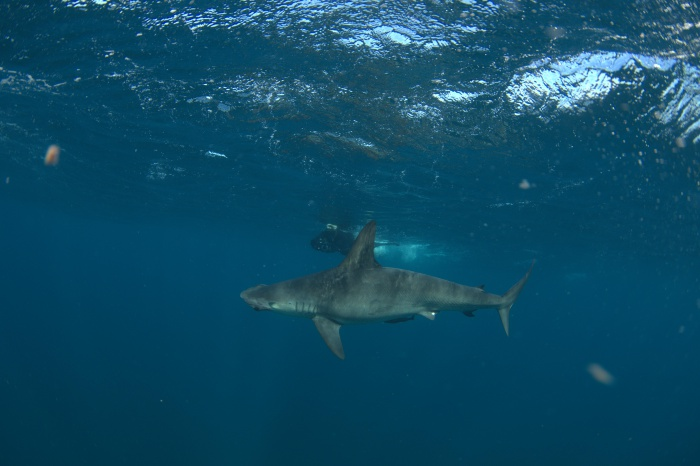Hammer: (222, 213, 538, 364)
